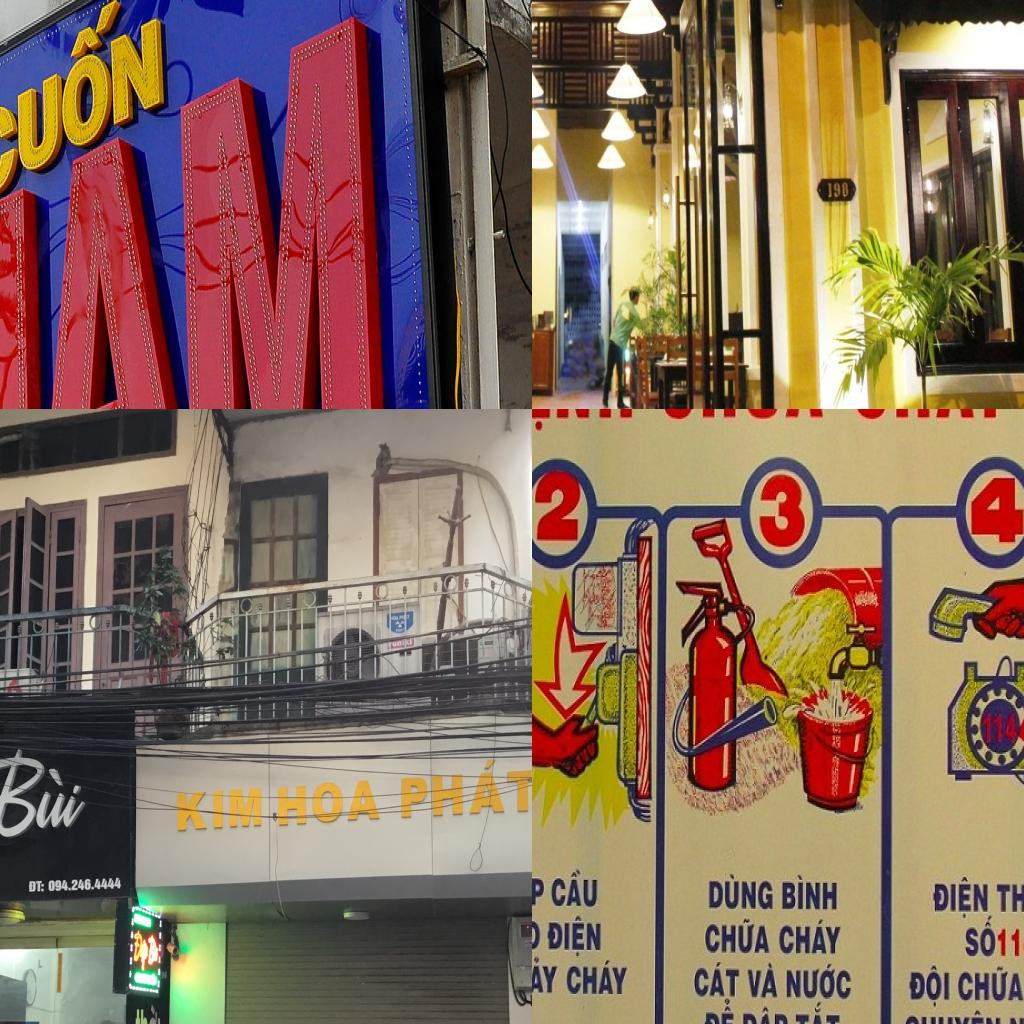text: (0, 6, 382, 409), (0, 0, 169, 209), (0, 748, 101, 846), (401, 755, 532, 817), (962, 463, 1024, 556), (757, 463, 811, 557), (532, 461, 587, 551), (277, 780, 381, 827), (176, 787, 263, 831), (657, 409, 829, 431), (532, 409, 639, 441), (783, 958, 854, 1003), (705, 872, 777, 916), (930, 874, 992, 925), (955, 963, 1024, 1006), (777, 916, 845, 959), (704, 916, 773, 956), (564, 959, 631, 999), (778, 872, 840, 915), (546, 915, 604, 960), (548, 868, 600, 913), (907, 961, 953, 1009), (692, 960, 742, 1002), (963, 910, 998, 960), (746, 959, 782, 1003), (902, 1009, 1003, 1024), (993, 880, 1024, 924), (791, 998, 842, 1024), (532, 954, 560, 998), (48, 878, 122, 893), (995, 924, 1024, 962), (702, 995, 738, 1024), (740, 1004, 791, 1024), (532, 871, 548, 912), (133, 1004, 162, 1024), (132, 928, 146, 964), (532, 917, 543, 954), (27, 880, 45, 894), (162, 972, 167, 980)
